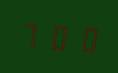seven: (18, 17, 43, 51)
zero: (71, 20, 96, 55), (45, 19, 70, 53)
